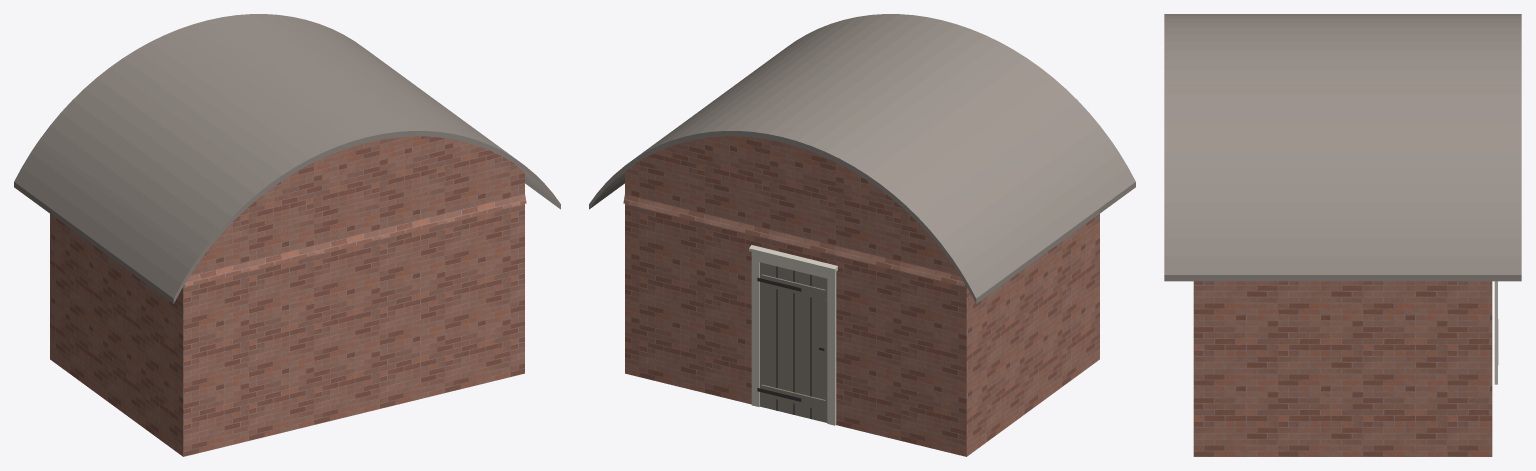
File: first_fort_dearborn_magazine__first_fort_1803.glb
The picture shows the model from 3 angles, left to right: view 1: azimuth 30°, elevation 25°; view 2: azimuth 150°, elevation 25°; view 3: azimuth 270°, elevation 25°; orthographic projection. The views are drawn at different scales.
Parts seen in each view (by area): view 1: first_fort_dearborn_magazine__first_fort_1803; view 2: first_fort_dearborn_magazine__first_fort_1803; view 3: first_fort_dearborn_magazine__first_fort_1803.
Part boxes in pixels (x1,y1,x2,y2): first_fort_dearborn_magazine__first_fort_1803: (14, 14, 560, 456); first_fort_dearborn_magazine__first_fort_1803: (589, 14, 1135, 456); first_fort_dearborn_magazine__first_fort_1803: (1164, 14, 1521, 456).
Size of the model in its own units: 5.11 by 3.63 by 3.65.
Materials: 7 (1 with a texture image).
